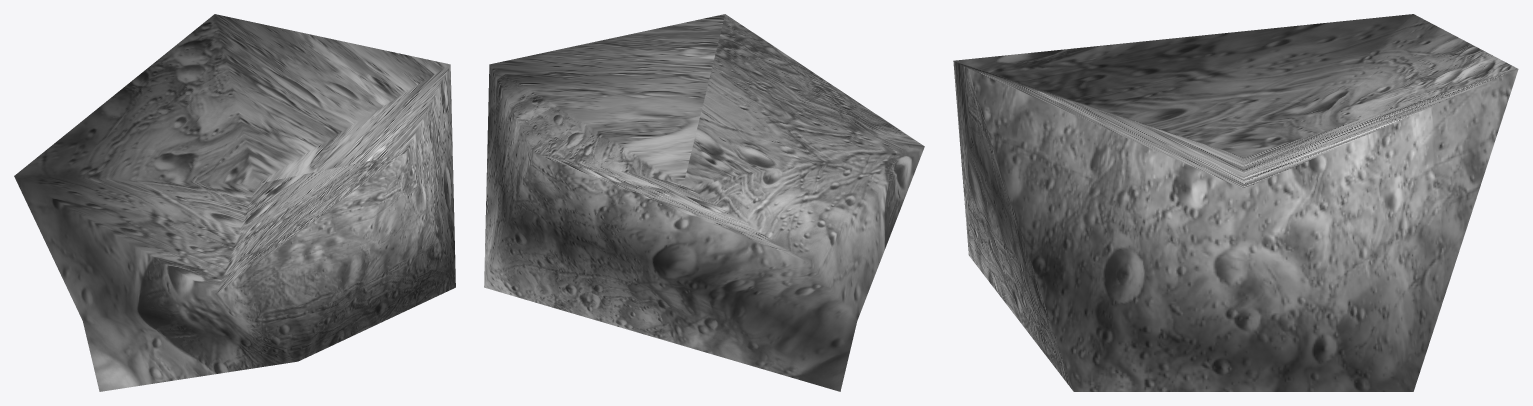
The model's file is Asteroid1.obj.
The picture shows the model from 3 angles, left to right: view 1: azimuth 30°, elevation 25°; view 2: azimuth 150°, elevation 25°; view 3: azimuth 270°, elevation 25°; orthographic projection. The views are drawn at different scales.
Parts seen in each view (by area): view 1: GeoSphere001; view 2: GeoSphere001; view 3: GeoSphere001.
Boxes of the visible parts, bbox=[...] form: GeoSphere001: bbox=[14, 14, 455, 391]; GeoSphere001: bbox=[484, 14, 924, 391]; GeoSphere001: bbox=[953, 14, 1518, 391].
Size of the model in its own units: 9.72 by 6.32 by 8.75.
